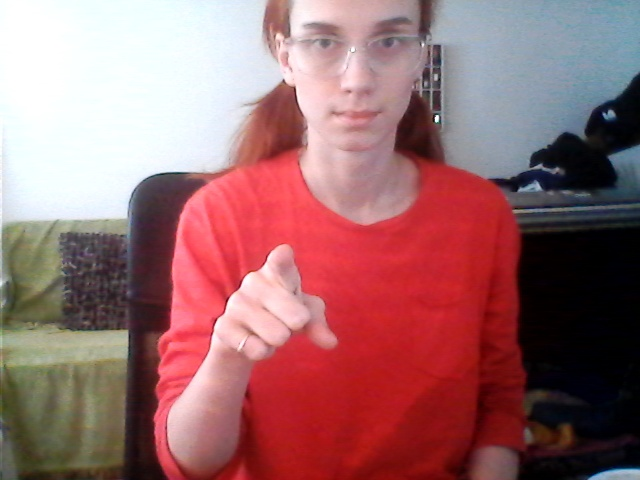ty: (206, 236, 348, 372)
